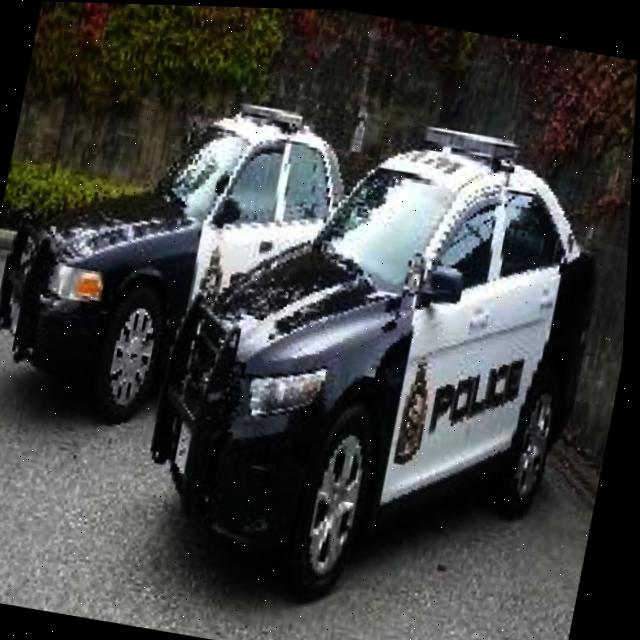emergency: (149, 92, 636, 630), (0, 35, 384, 451)
